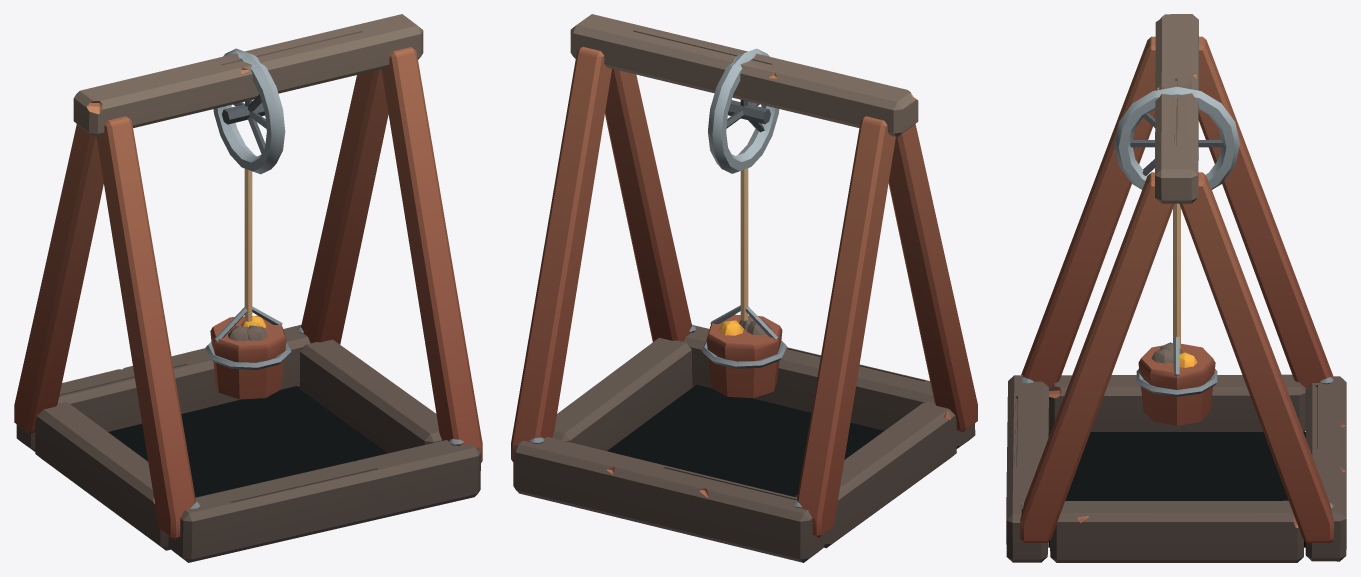
Rendered from mine_shaft.glb.
3 views of the same model, side by side, from view 1: azimuth 30°, elevation 25°; view 2: azimuth 150°, elevation 25°; view 3: azimuth 270°, elevation 25° (orthographic). The views are drawn at different scales.
Parts seen in each view (by area): view 1: mine_shaft; view 2: mine_shaft; view 3: mine_shaft.
Part boxes in pixels (x1,y1,x2,y2): mine_shaft: (14, 14, 482, 562); mine_shaft: (511, 14, 977, 562); mine_shaft: (1006, 14, 1346, 562).
Bounding box in the file's own units: 2.93 × 3.5 × 2.65.
1 material, 1 textured.
